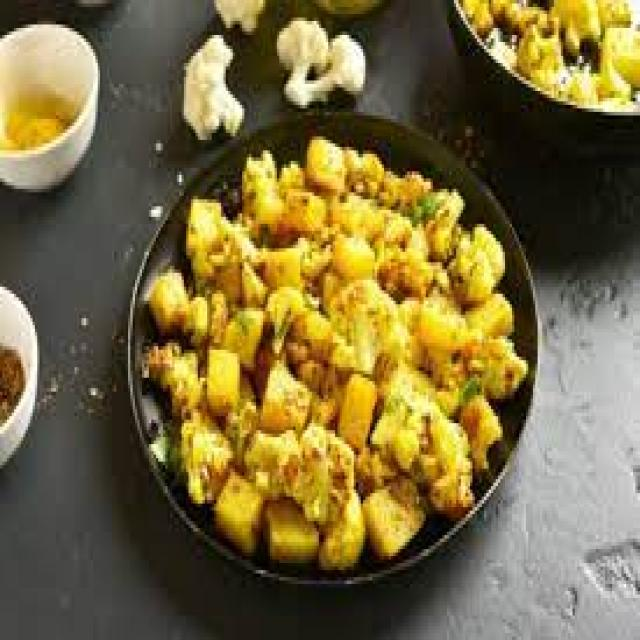Aloo Gobi: (155, 149, 515, 562)
